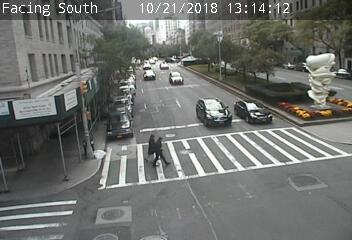car: (236, 99, 268, 122), (199, 100, 228, 124), (143, 71, 155, 79), (171, 73, 180, 82), (141, 62, 150, 69), (151, 57, 157, 64), (161, 62, 169, 67)
